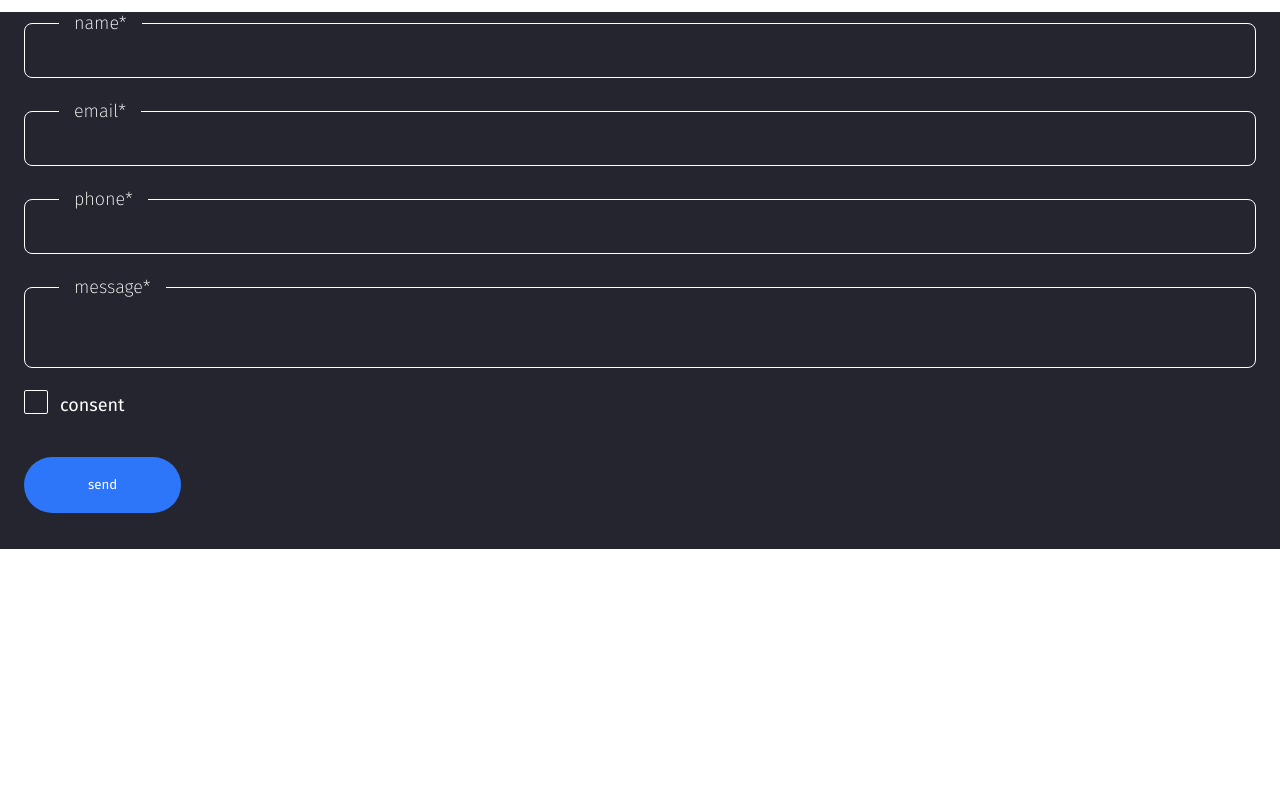
Test: ContactForm Component › shows an error when the phone is in an invalid format
In the field labelled "name": point(640, 56) [25,34,1255,77], type "Nick Tests"
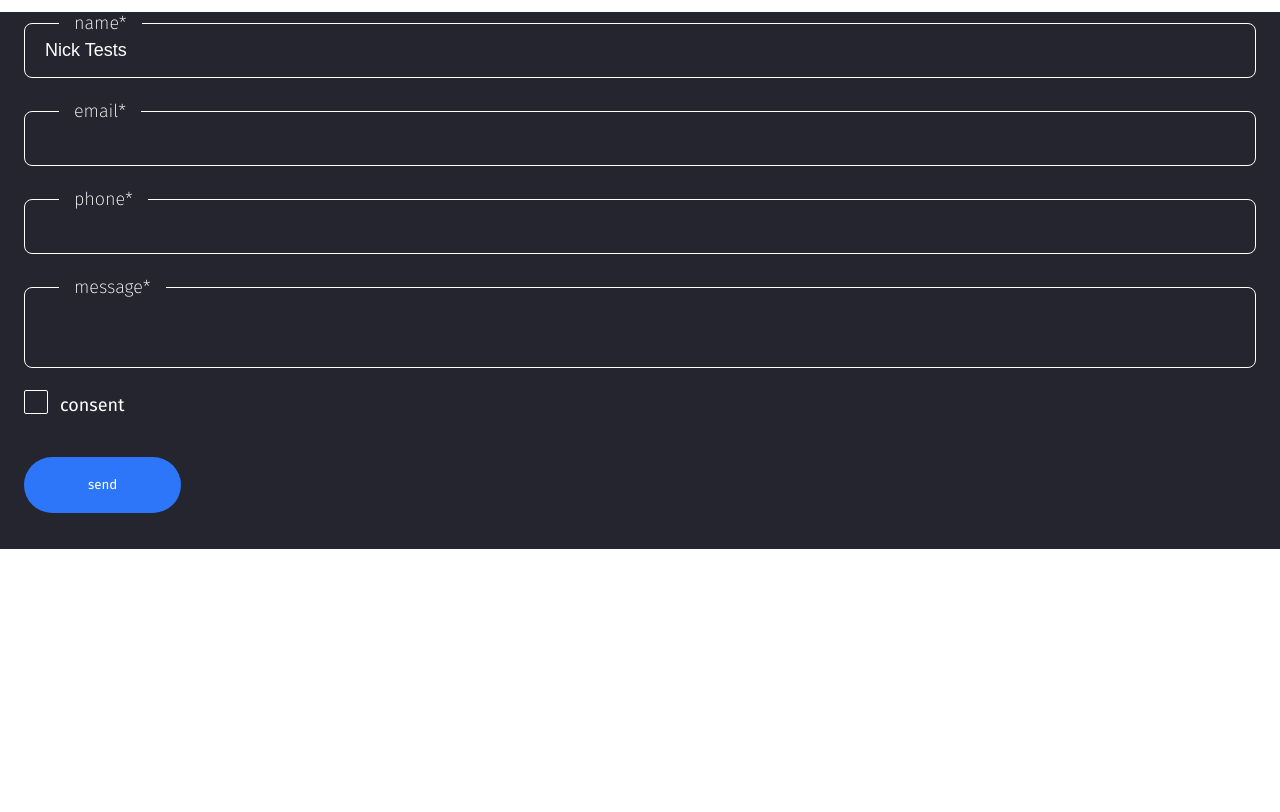
In the field labelled "email": point(640, 144) [25,122,1255,165], type "Nick@gmail.com"
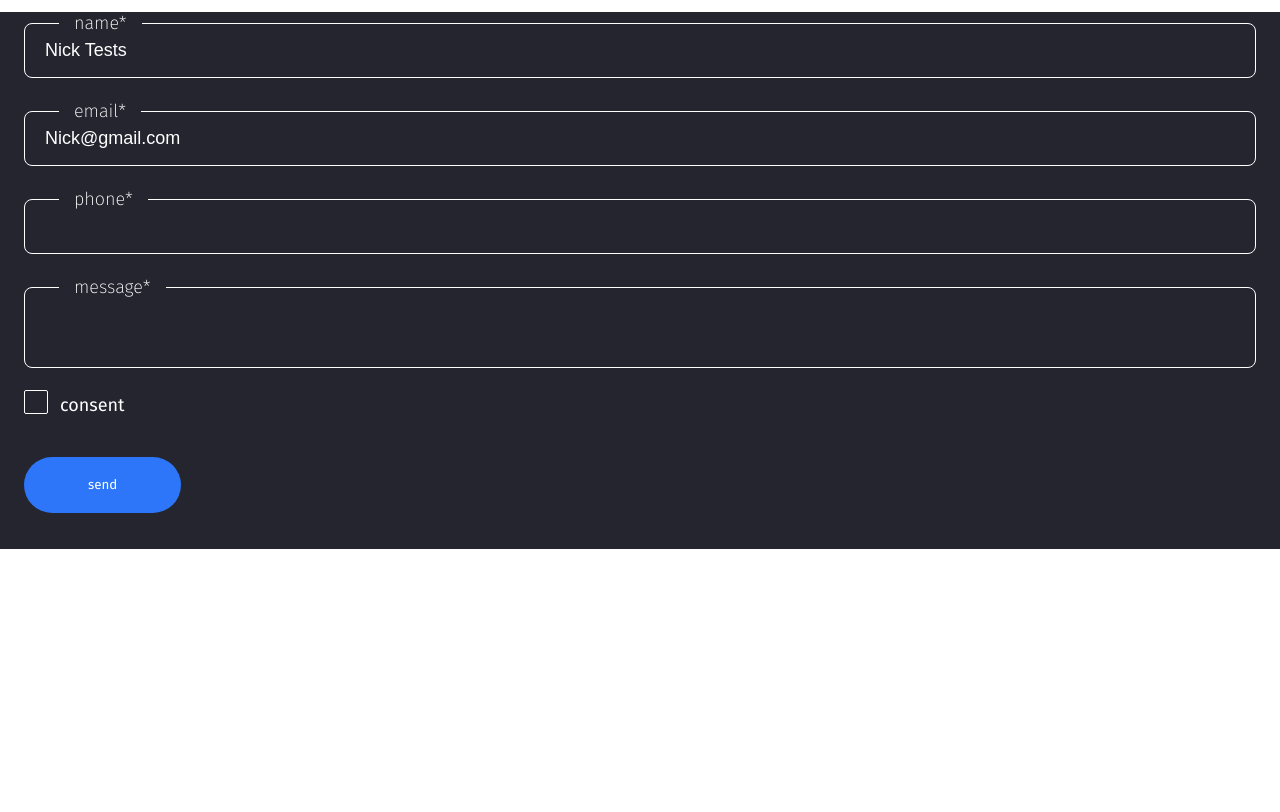
In the field labelled "phone": point(640, 232) [25,210,1255,253], type "invalid-phone"
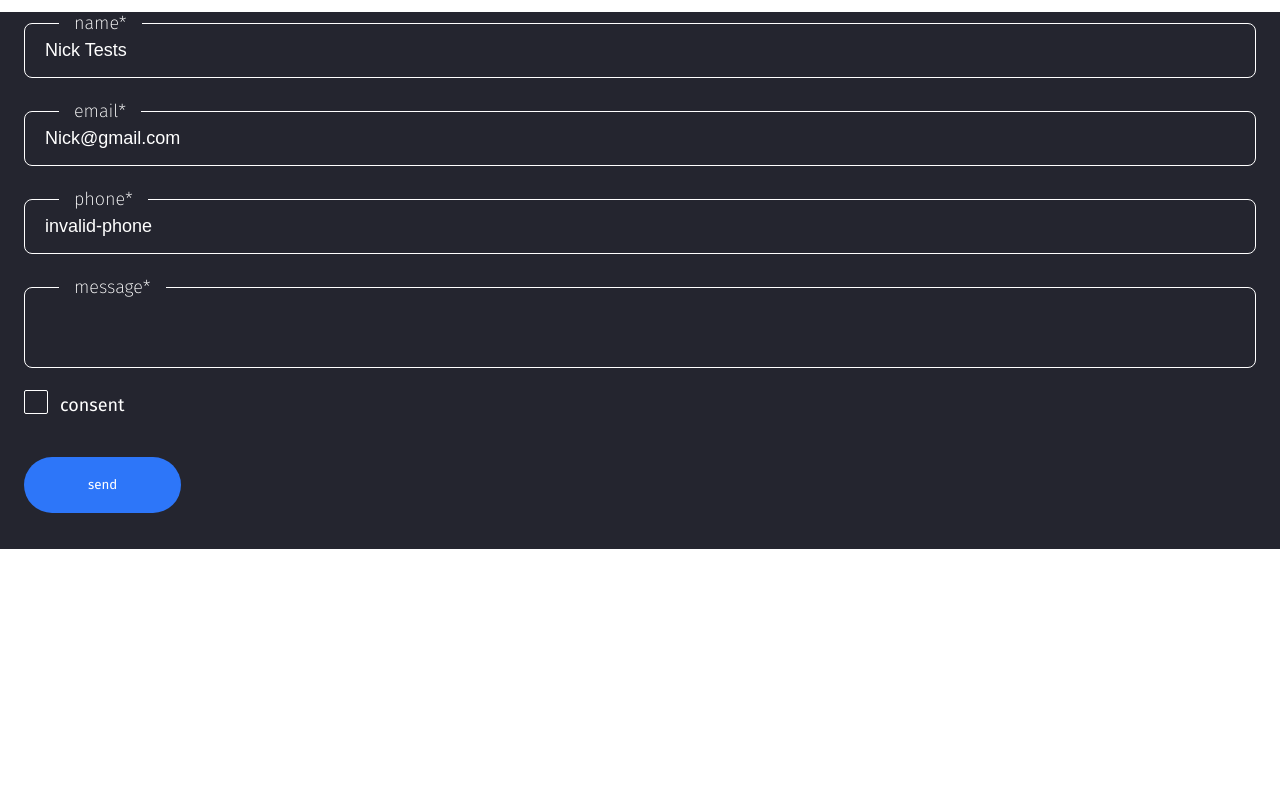
In the text box labelled "message": point(640, 330) [25,298,1255,362], type "Test message"
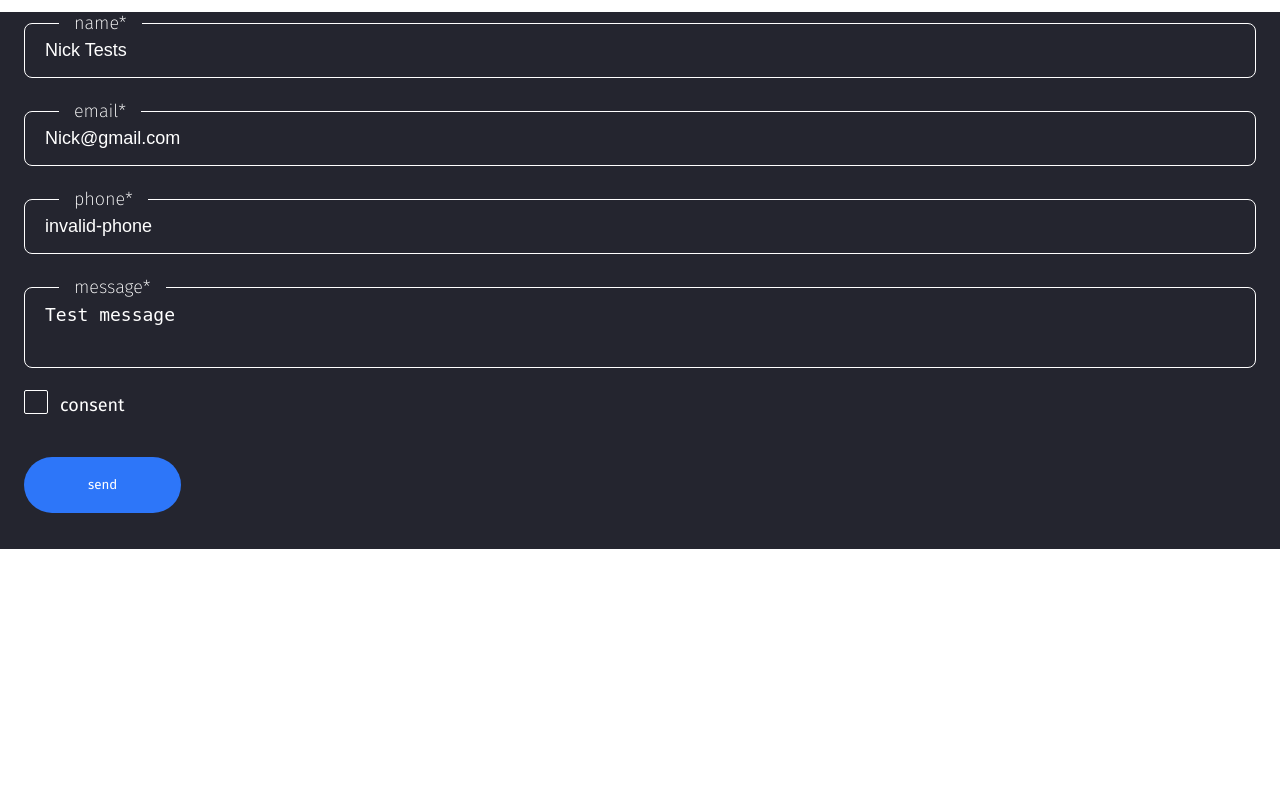
Click the button with aria-label "contact-form-submit": point(103, 485) [24,457,181,513]
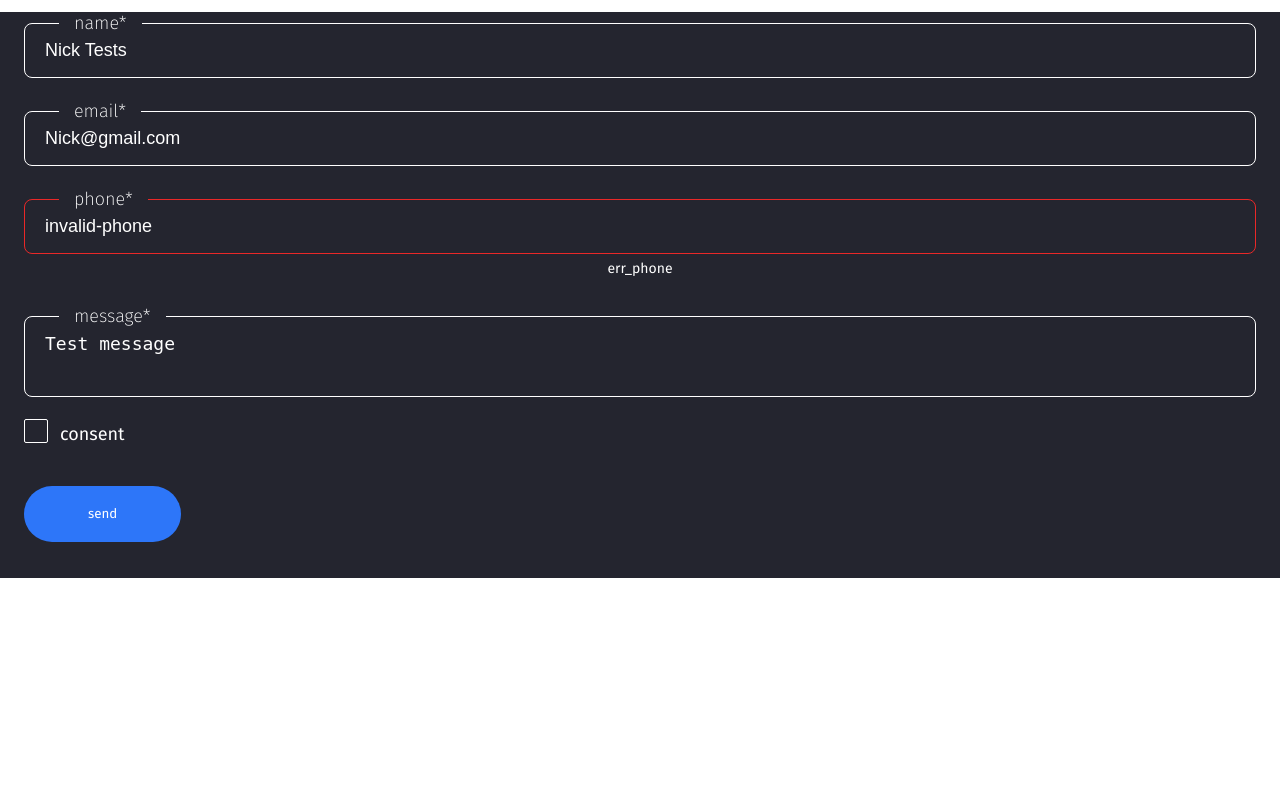
Now the text named "phone-error" is shown, box [607,260,672,277]
